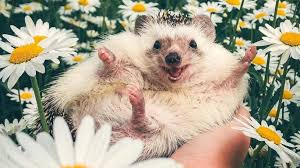hedgehog: (76, 13, 253, 141)
